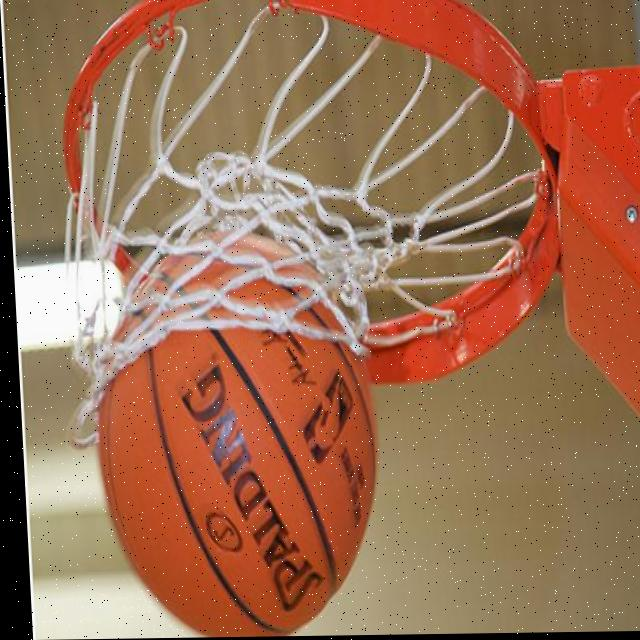basketball: (85, 228, 387, 639)
hoop: (45, 0, 570, 447)
